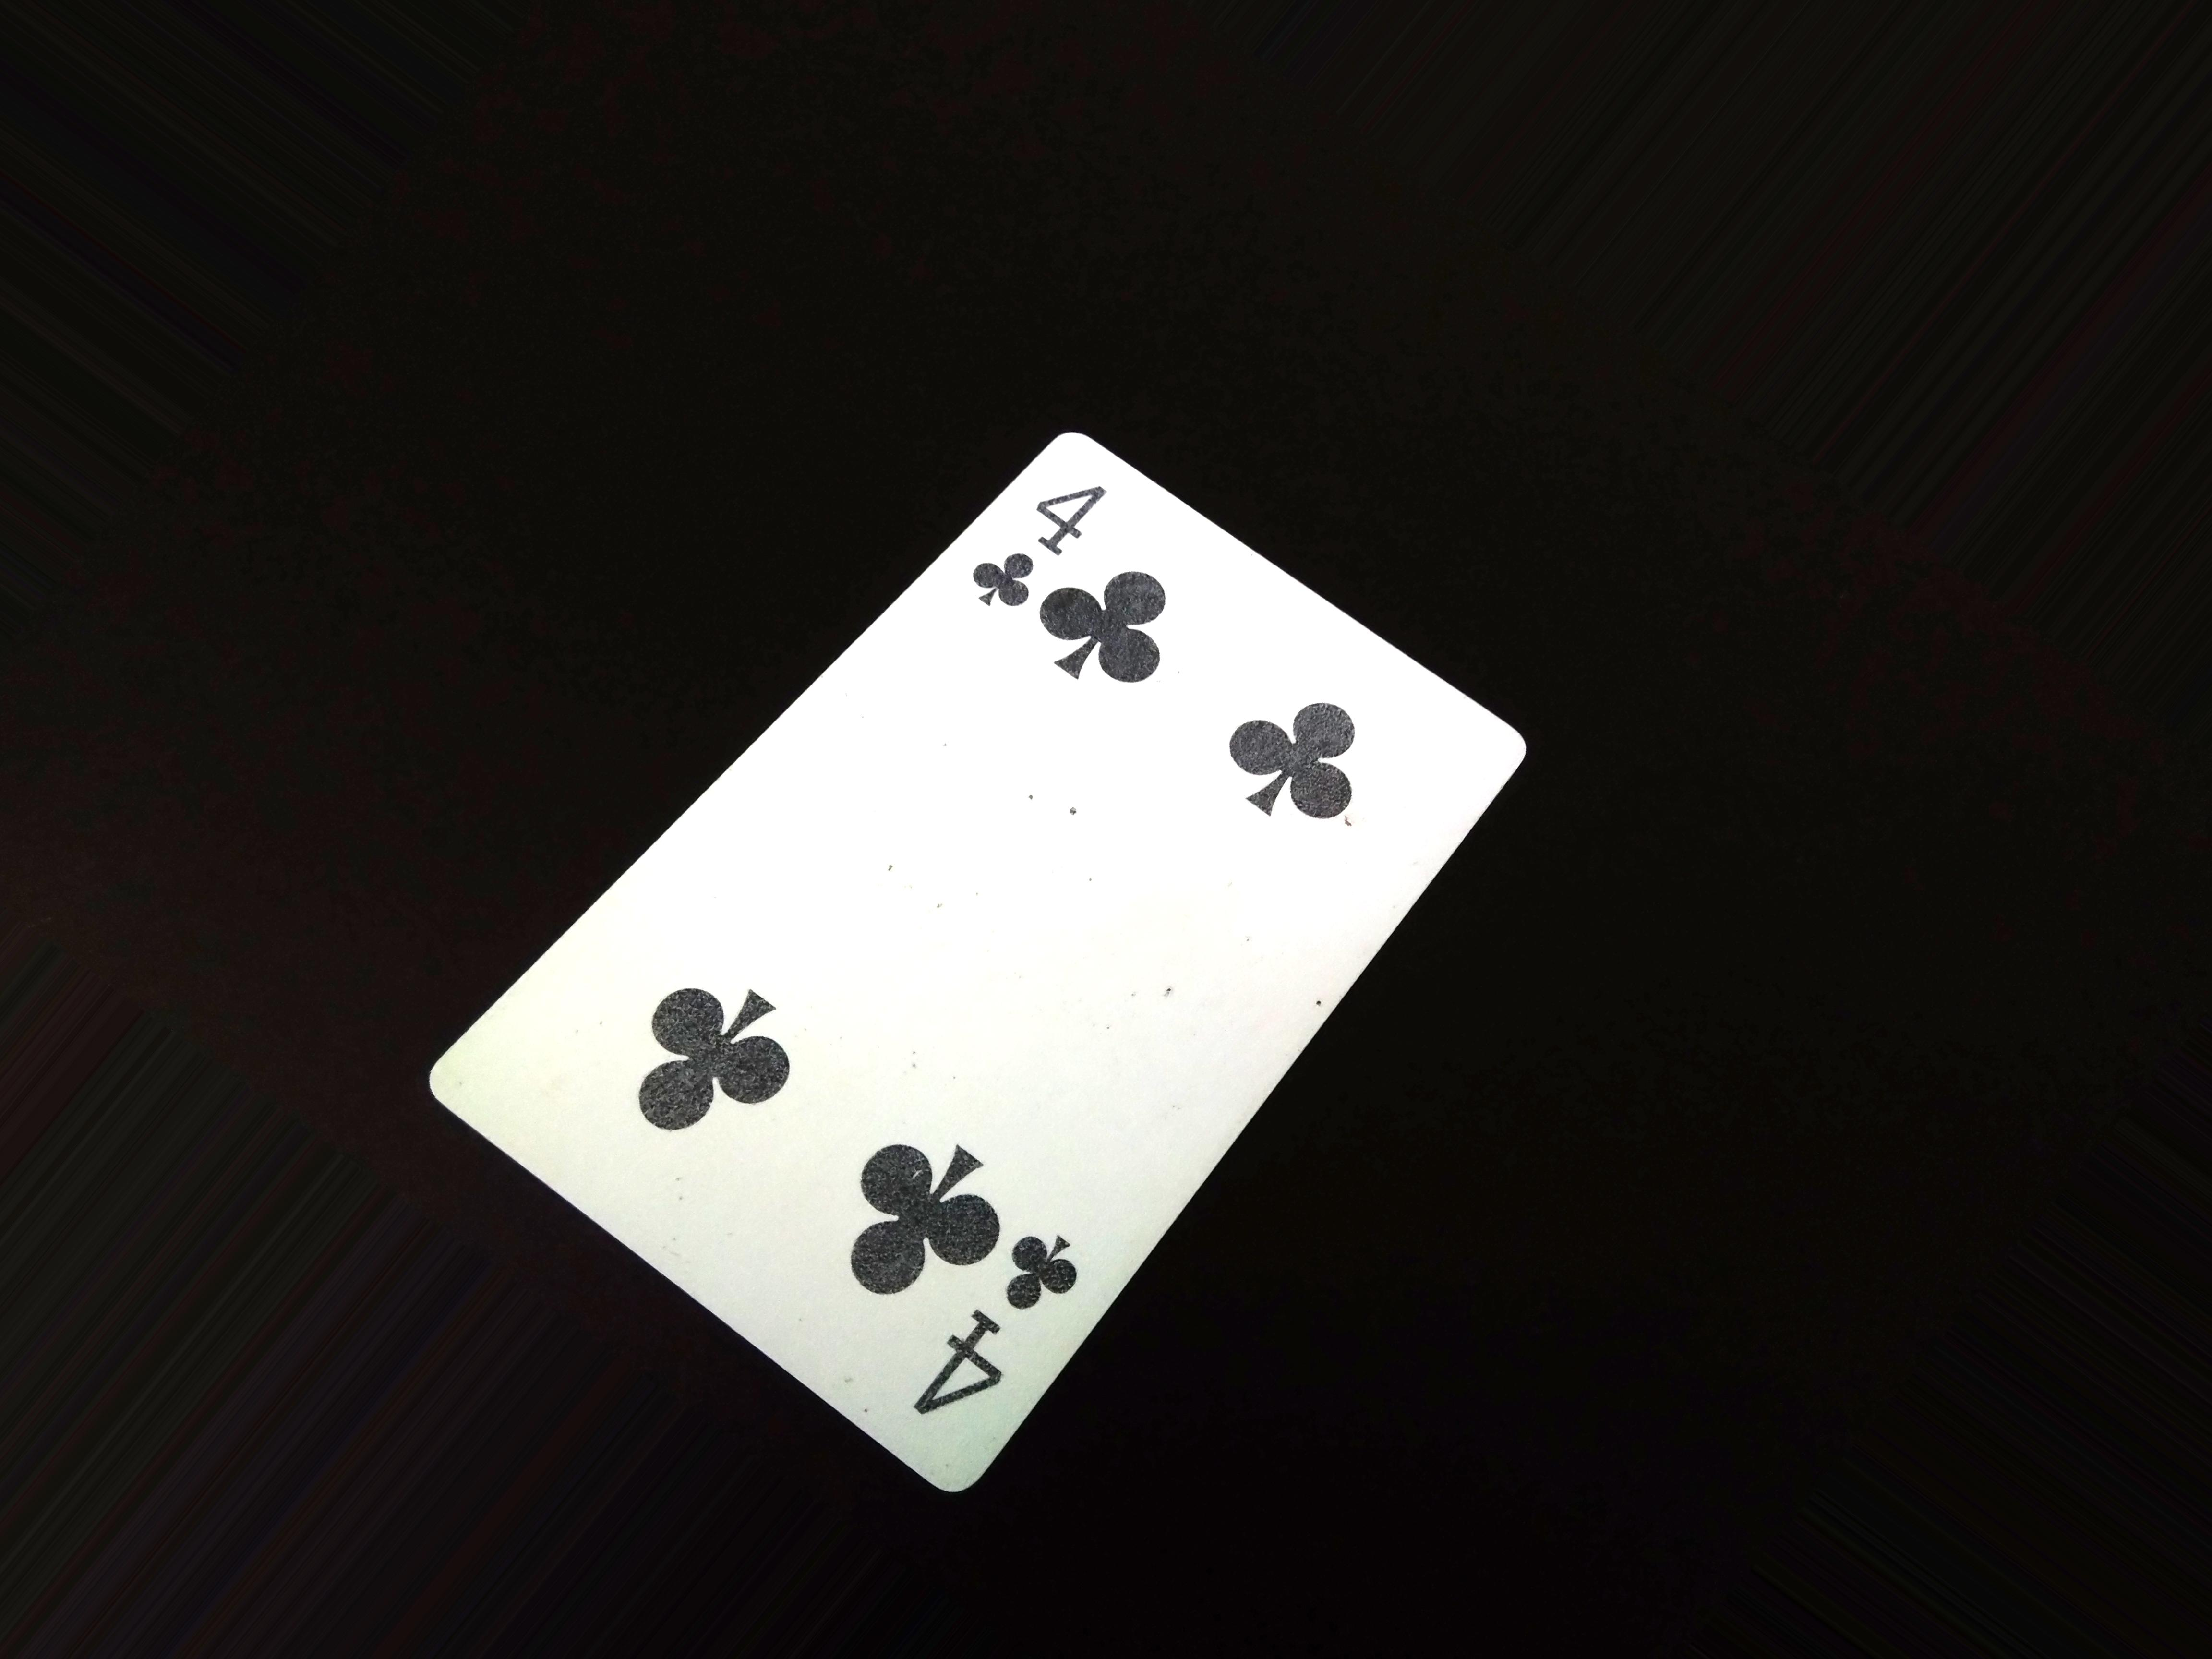4C: (956, 471, 1106, 650)
